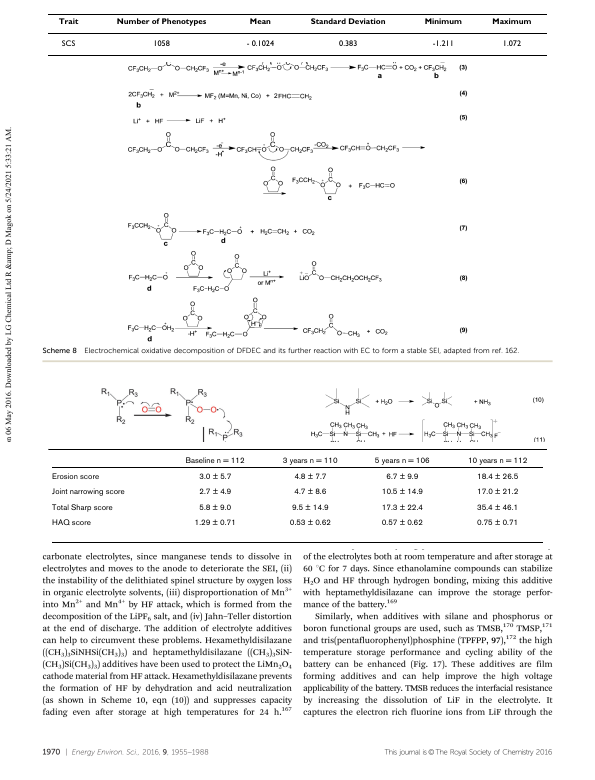borderless: (47, 447, 543, 542), (47, 12, 547, 55)
cell: (115, 17, 207, 26), (50, 488, 125, 498), (309, 17, 386, 26), (50, 503, 113, 513), (466, 456, 528, 466), (184, 456, 245, 466), (281, 456, 338, 466), (373, 456, 430, 466), (50, 472, 99, 482), (475, 472, 519, 482), (475, 488, 519, 498), (475, 503, 519, 513), (475, 519, 519, 529), (380, 488, 423, 498), (380, 503, 423, 513), (193, 519, 236, 529), (288, 519, 331, 529), (380, 519, 423, 529), (50, 519, 91, 529), (290, 503, 329, 513), (491, 17, 532, 26), (423, 17, 462, 26), (198, 472, 232, 482), (293, 472, 327, 482), (385, 472, 419, 482), (198, 488, 232, 498), (293, 488, 327, 498), (198, 503, 232, 513), (245, 39, 275, 47), (248, 17, 271, 26), (57, 17, 79, 26), (431, 39, 454, 47), (501, 39, 522, 47), (338, 39, 358, 47), (152, 39, 170, 47), (60, 39, 76, 47)
